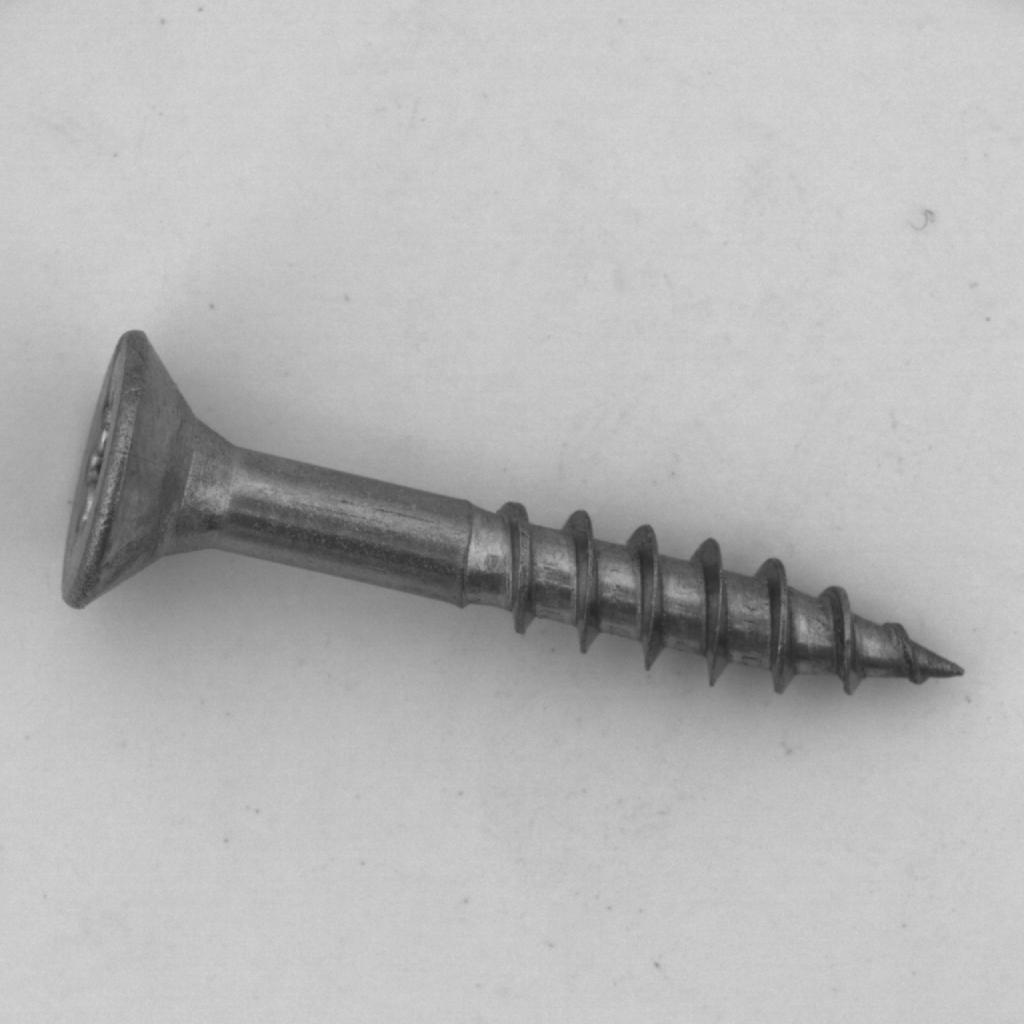good: (45, 317, 983, 705)
